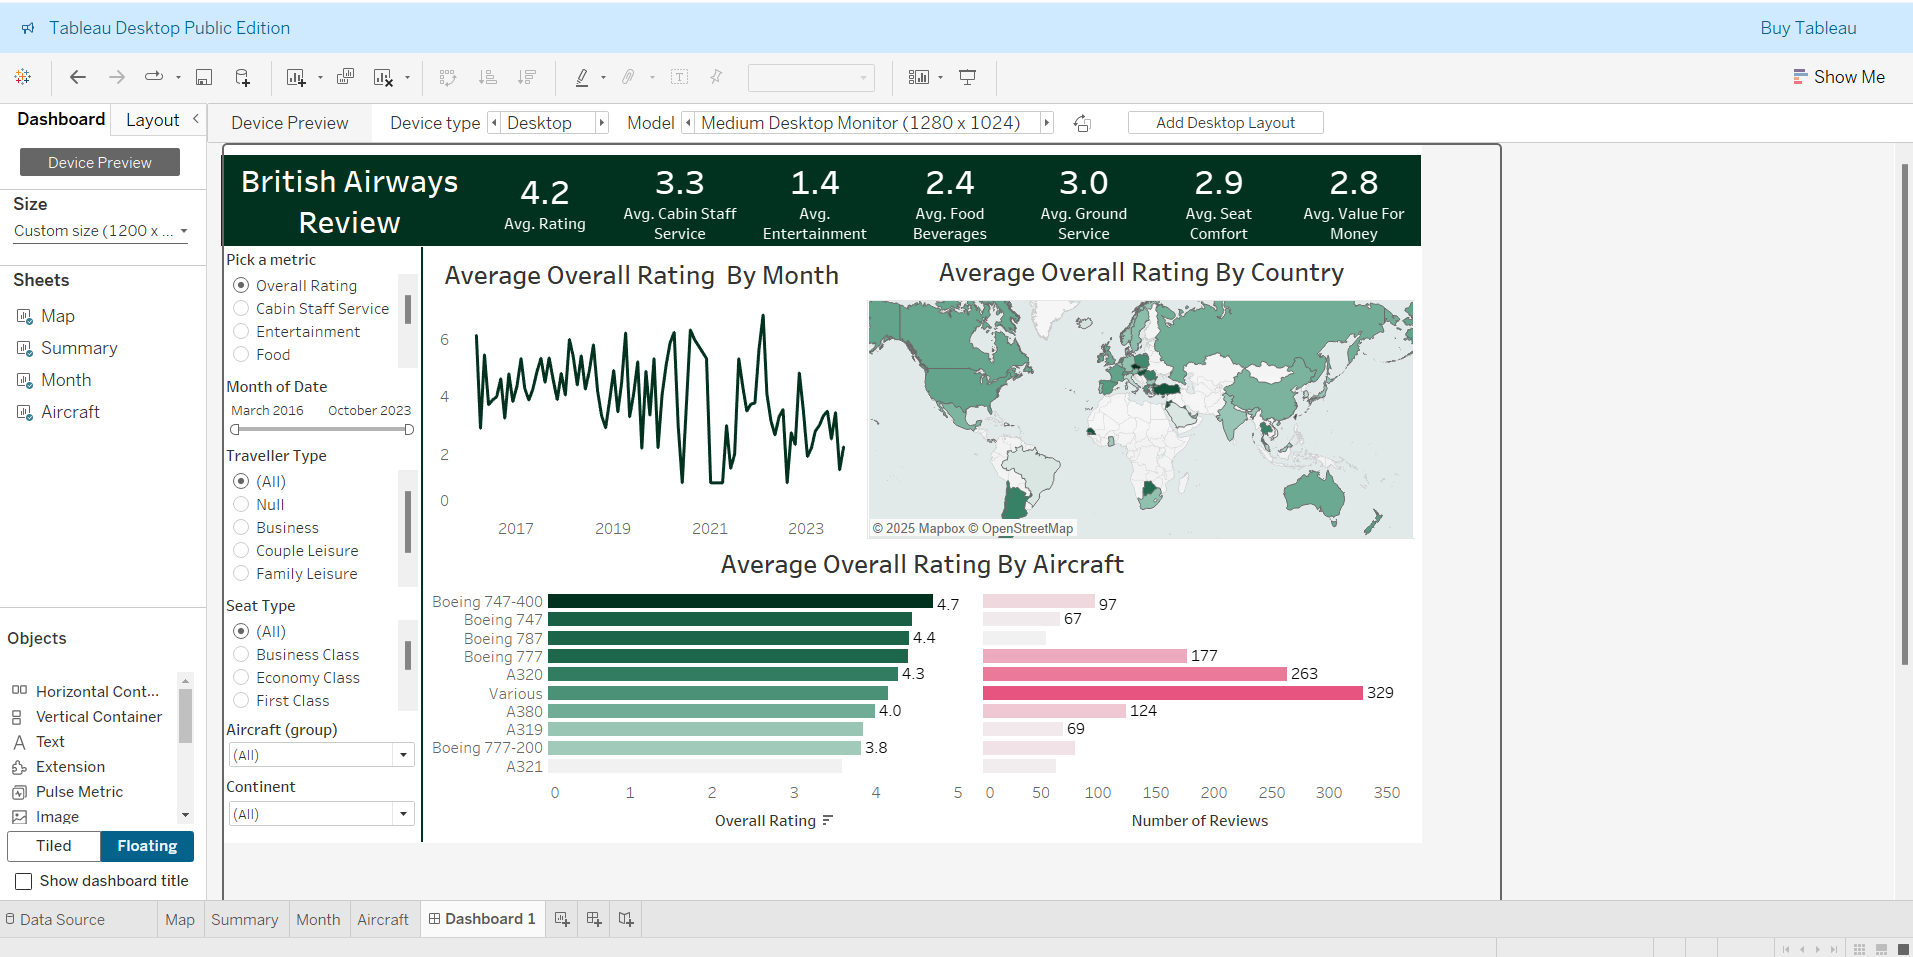

The dashboard page shown, as its layout file describes it:
{"tool":"tableau","page":{"name":"Dashboard 1","canvas":[1200,700],"ordinal":0},"visuals":[{"type":"worksheet","title":"Summary","mark":"Automatic","box":[256,12,943,91]},{"type":"parameter","param":"[Parameters].[Parameter 1]","box":[0,102,200,127]},{"type":"blank","box":[198.9,103.6,2.6,595.5]},{"type":"worksheet","title":"Map","mark":"Automatic","box":[644.6,107.3,548.6,289.3]},{"type":"worksheet","title":"Month","mark":"Automatic","rows":["Calculation_857091310775734272"],"cols":["date"],"box":[204,110.1,437.1,288.4]},{"type":"filter","title":"Map","param":"[federated.18lej7f0khxe1k1f9kfin0wkc0xe].[tmn:date:qk]","box":[0,229,200,69]},{"type":"filter","title":"Map","param":"[federated.18lej7f0khxe1k1f9kfin0wkc0xe].[none:traveller_type:nk]","box":[0,298,200,150]},{"type":"worksheet","title":"Aircraft","mark":"Automatic","cols":["Calculation_857091310775734272","ba_reviews.csv_E328E6B8014B43E69A9B1589782307C8"],"box":[205.7,398.5,989.1,295.9]},{"type":"filter","title":"Map","param":"[federated.18lej7f0khxe1k1f9kfin0wkc0xe].[none:seat_type:nk]","box":[0,448,200,124]},{"type":"filter","title":"Map","param":"[federated.18lej7f0khxe1k1f9kfin0wkc0xe].[Aircraft (group)]","box":[0,572,200,57]},{"type":"filter","title":"Map","param":"[federated.18lej7f0khxe1k1f9kfin0wkc0xe].[none:Continent:nk]","box":[0,629,200,61]}]}

Visuals, with their boxes on the page's 1200x700 design canvas (x1, y1, x2, y2). These are canvas units, not pixel positions in the 1913x957 screenshot, which may show the page scaled, cropped or inside an application window:
"Summary" worksheet: (x1=256, y1=12, x2=1199, y2=103)
parameter: (x1=0, y1=102, x2=200, y2=229)
blank: (x1=199, y1=104, x2=202, y2=699)
"Map" worksheet: (x1=645, y1=107, x2=1193, y2=397)
"Month" worksheet: (x1=204, y1=110, x2=641, y2=398)
"Map" filter: (x1=0, y1=229, x2=200, y2=298)
"Map" filter: (x1=0, y1=298, x2=200, y2=448)
"Aircraft" worksheet: (x1=206, y1=398, x2=1195, y2=694)
"Map" filter: (x1=0, y1=448, x2=200, y2=572)
"Map" filter: (x1=0, y1=572, x2=200, y2=629)
"Map" filter: (x1=0, y1=629, x2=200, y2=690)
